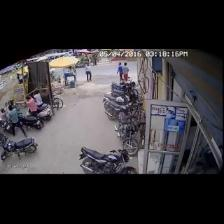person: (7, 105, 27, 137), (26, 96, 37, 116), (33, 90, 43, 107), (85, 63, 91, 81), (123, 63, 128, 81), (117, 63, 122, 81)
